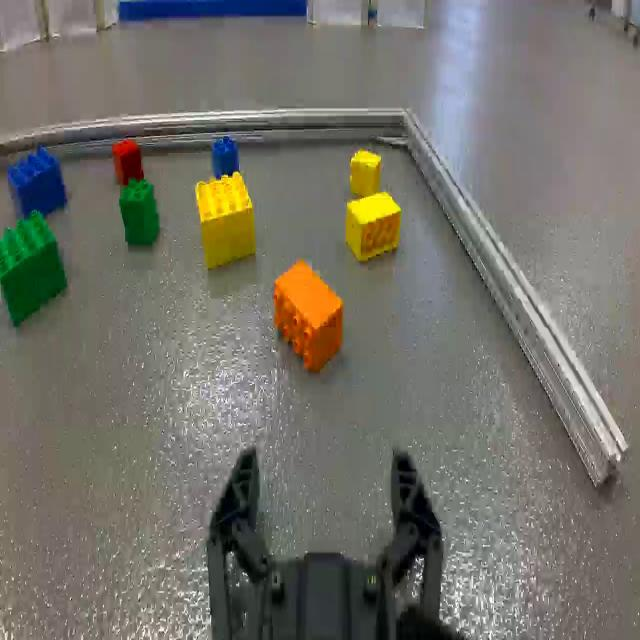block: (191, 180, 261, 268), (347, 207, 402, 262), (352, 154, 380, 195)
blue: (7, 165, 62, 212), (215, 146, 241, 179)
green: (5, 231, 66, 317), (120, 193, 158, 246)
metal barrier: (0, 108, 628, 490)
orange: (274, 272, 349, 366)
red goal: (113, 147, 141, 180)
